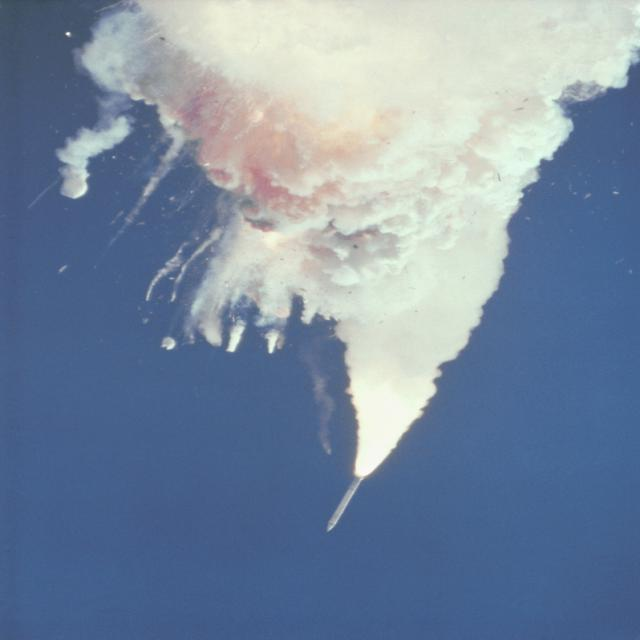missile: (322, 472, 370, 536)
